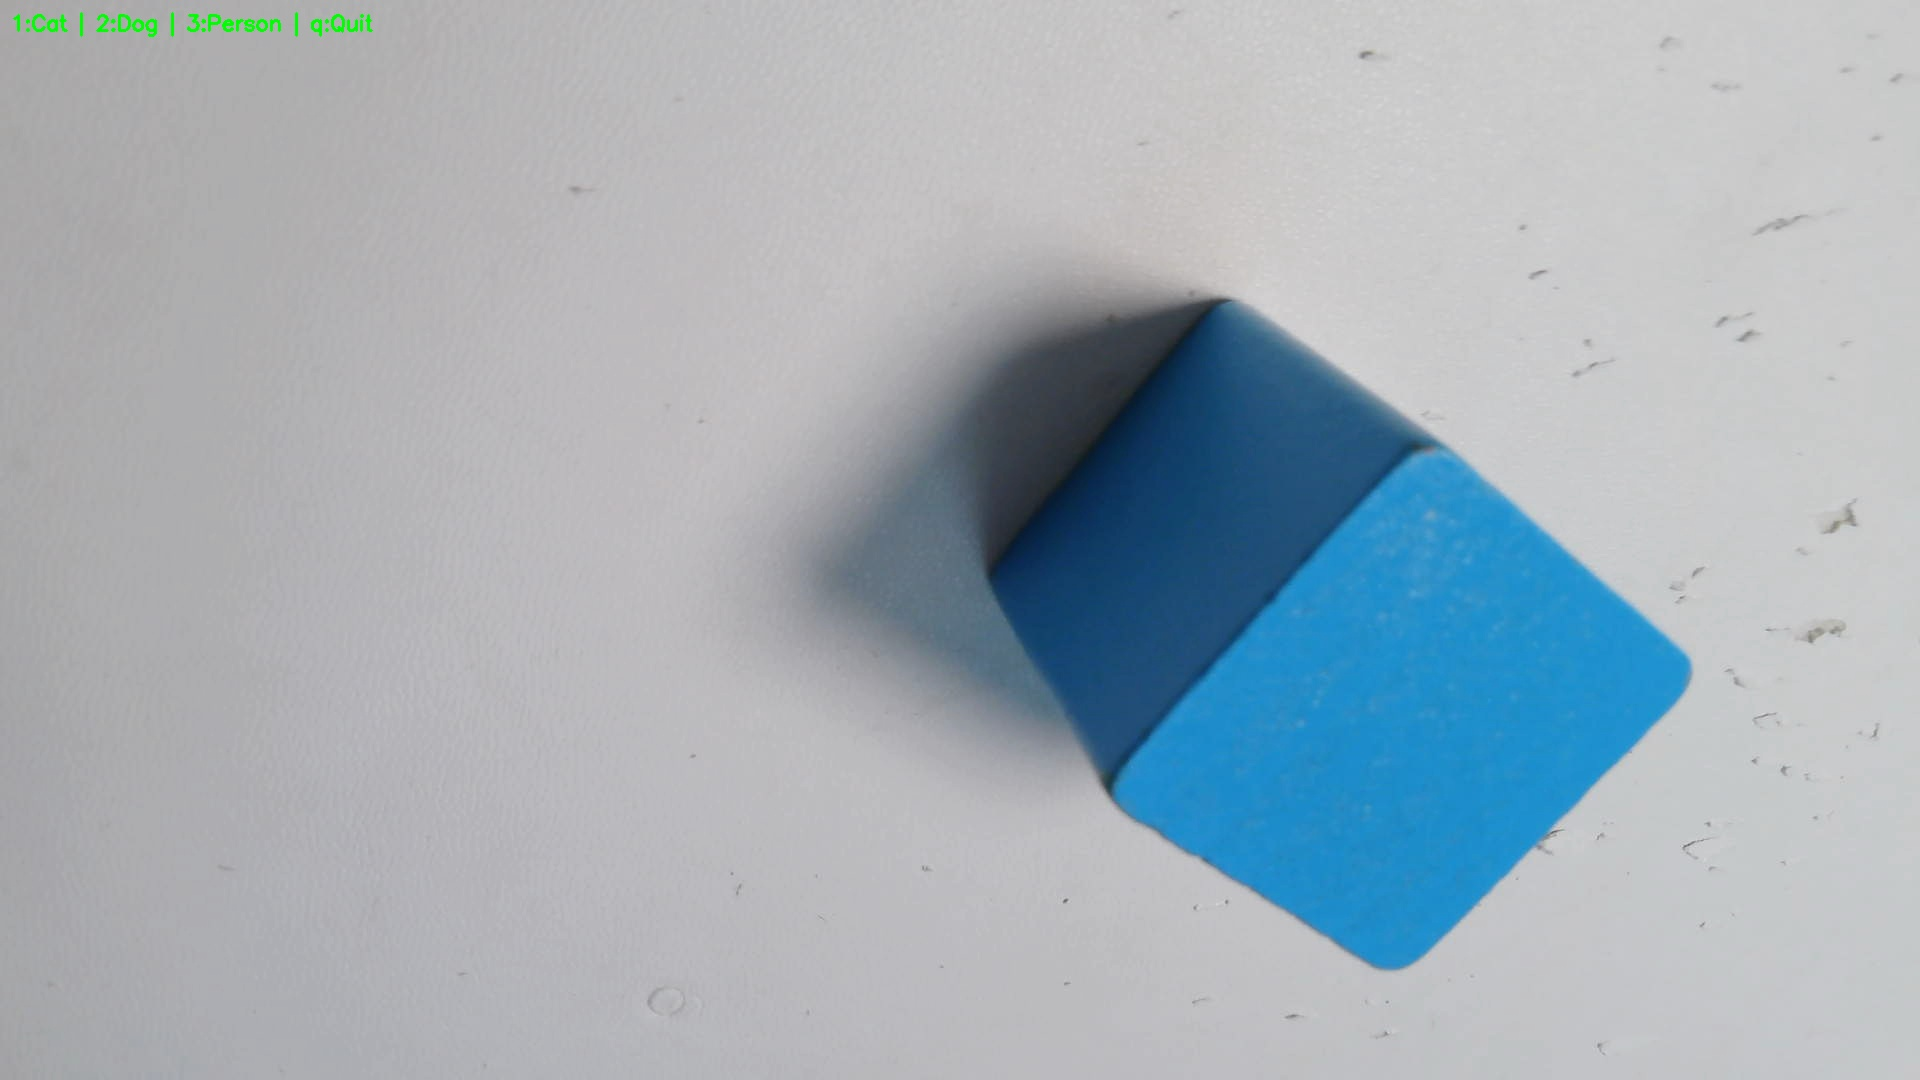blue: (989, 295, 1693, 972)
